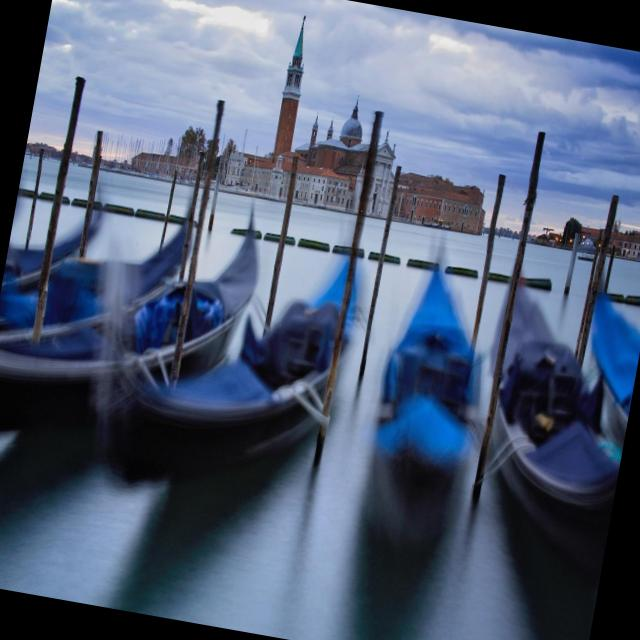boat: (70, 190, 390, 544), (0, 115, 285, 491), (333, 216, 514, 632), (444, 254, 640, 579)
